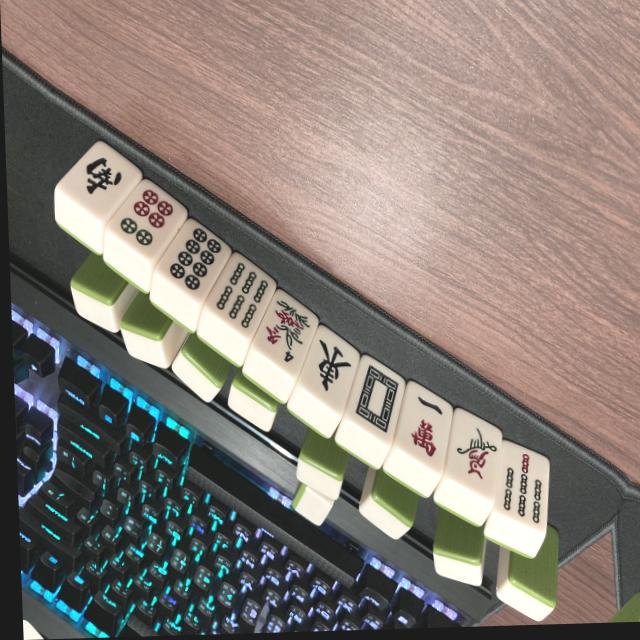bai: (339, 357, 414, 444)
east: (295, 324, 367, 411)
ff4: (248, 290, 324, 377)
m1: (390, 385, 461, 474)
s1: (441, 414, 510, 496)
s6: (205, 253, 282, 337)
s7: (489, 443, 555, 532)
south: (57, 140, 145, 223)
t6: (107, 177, 191, 265)
t8: (154, 219, 236, 306)
